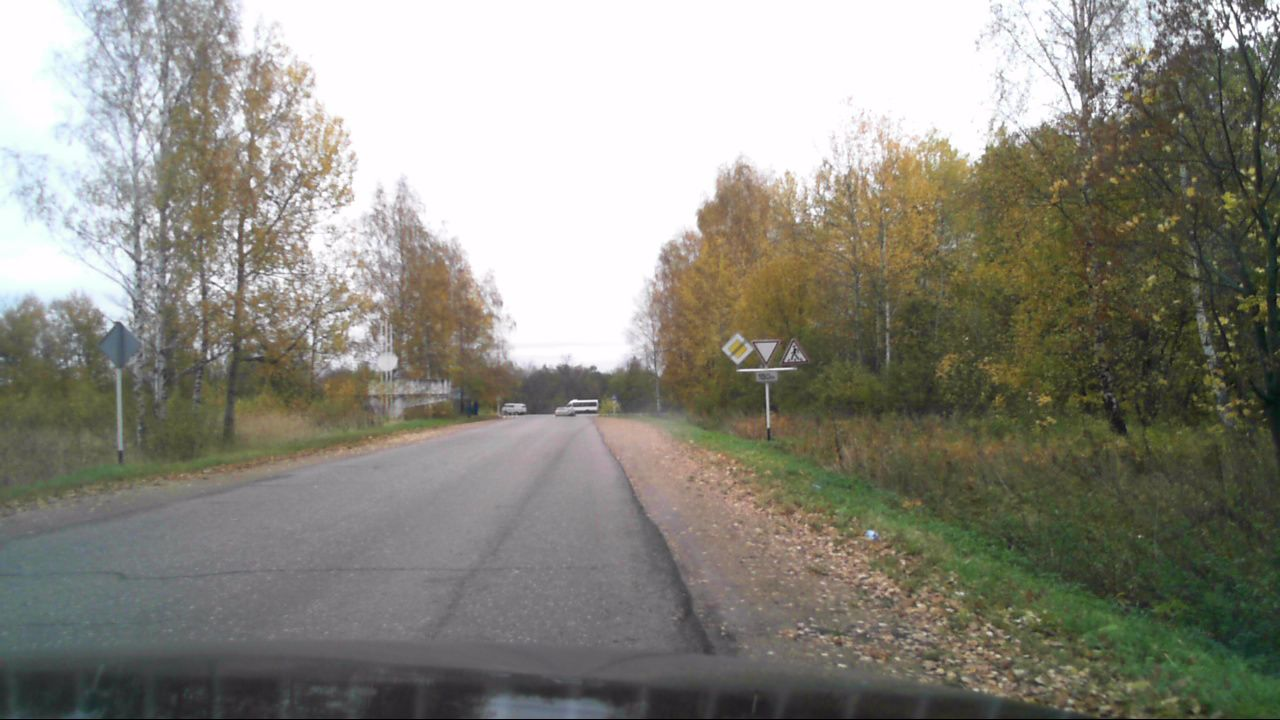main road: (721, 332, 752, 365)
